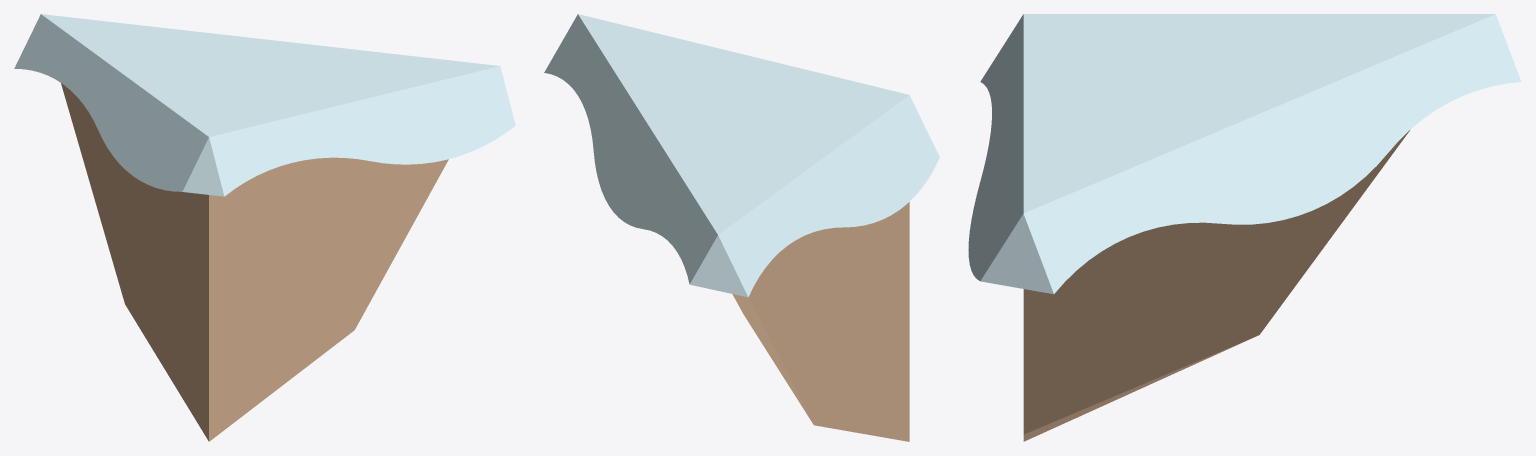
File: blockSnowCliffCorner.glb
3 views of the same model, side by side, from view 1: azimuth 30°, elevation 25°; view 2: azimuth 150°, elevation 25°; view 3: azimuth 270°, elevation 25° (orthographic). The views are drawn at different scales.
Visible parts, largest first — view 1: blockSnowCliffCorner(Clone); view 2: blockSnowCliffCorner(Clone); view 3: blockSnowCliffCorner(Clone).
Boxes of the visible parts, box(x1,y1,x2,y2) form: blockSnowCliffCorner(Clone): box(14, 14, 515, 441); blockSnowCliffCorner(Clone): box(544, 14, 939, 441); blockSnowCliffCorner(Clone): box(968, 14, 1521, 441).
Size of the model in its own units: 1.18 by 1 by 1.17.
